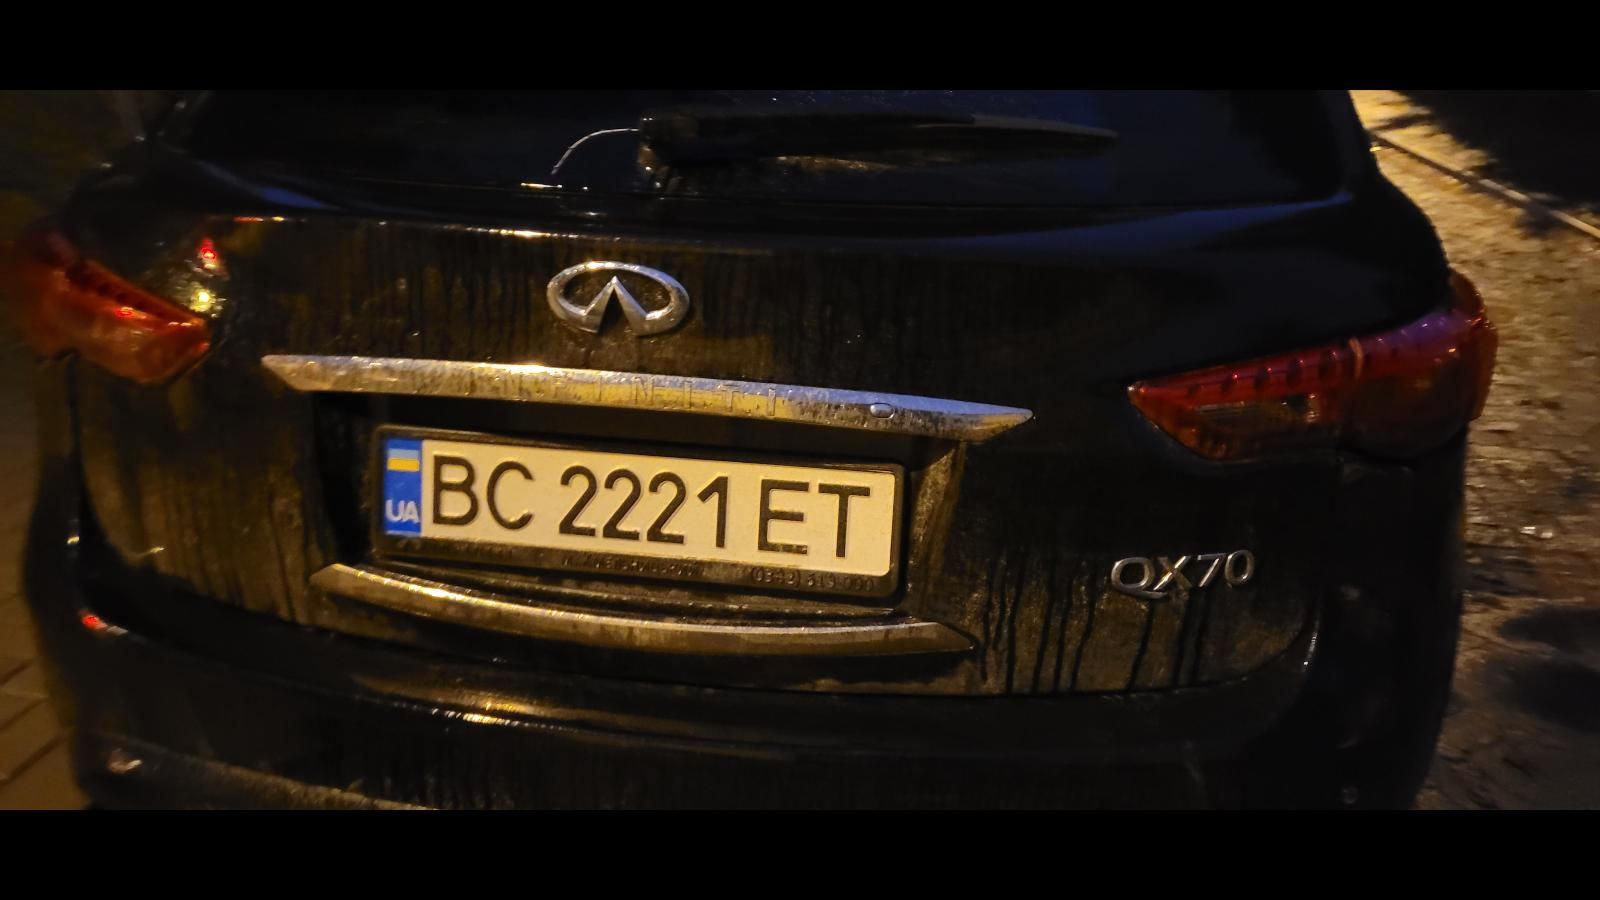plates: (369, 421, 905, 602)
